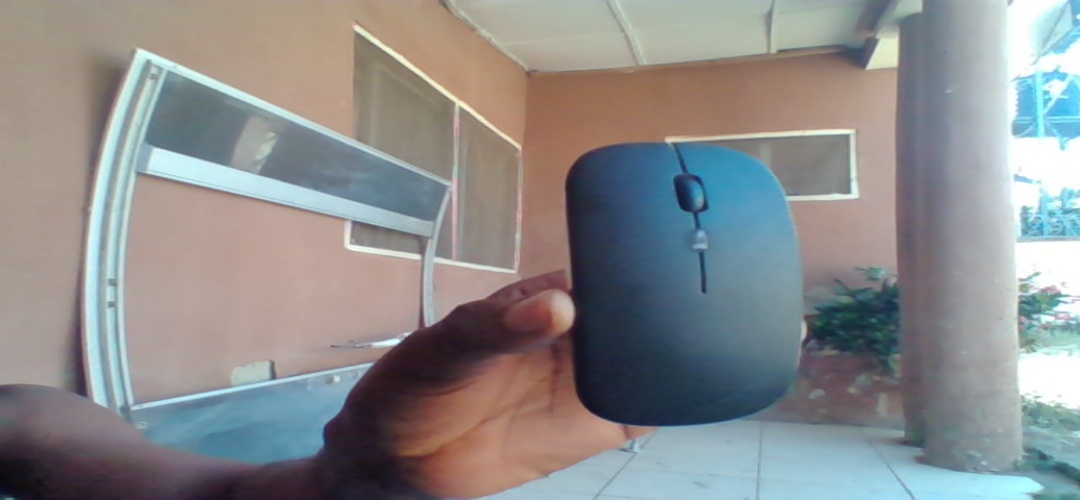wireless_mouse: (558, 139, 813, 429)
